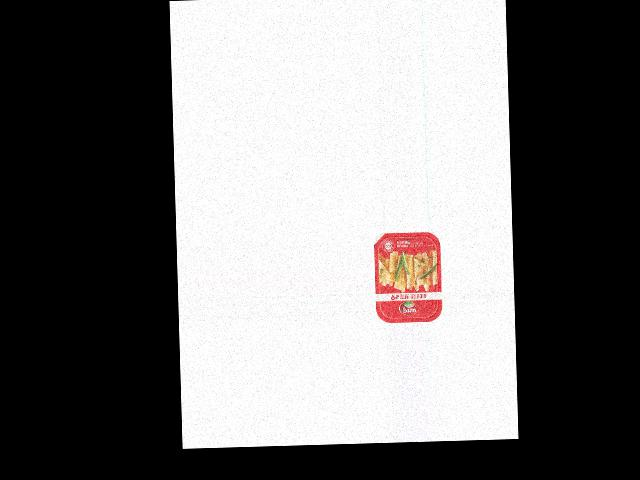cheese: (374, 231, 443, 323)
